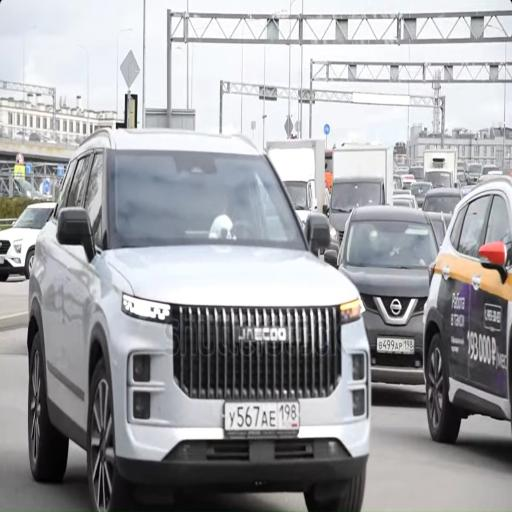License plates: (224, 402, 299, 433), (377, 338, 414, 354), (0, 256, 4, 265)
